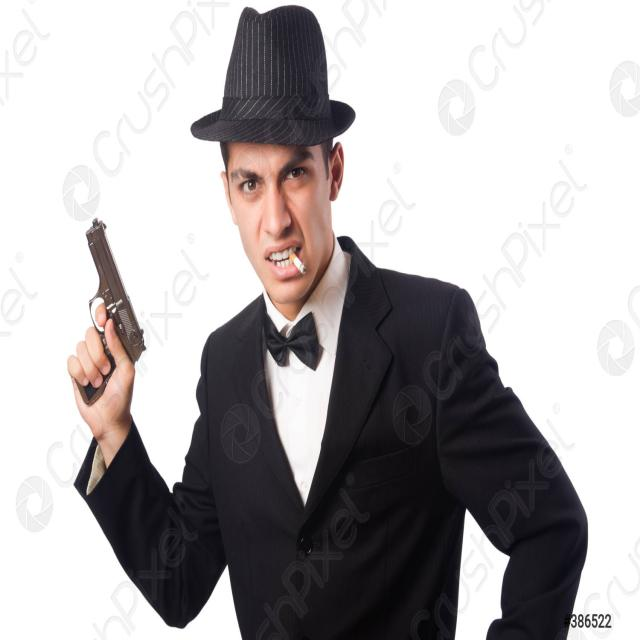HandGun: (76, 218, 146, 407)
